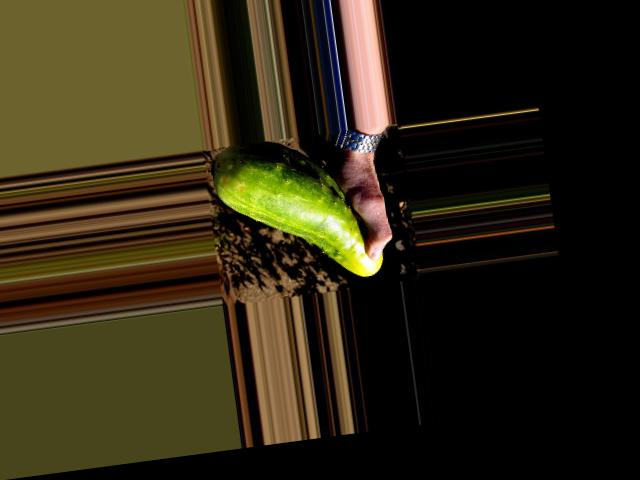cucumber: (207, 126, 385, 294)
